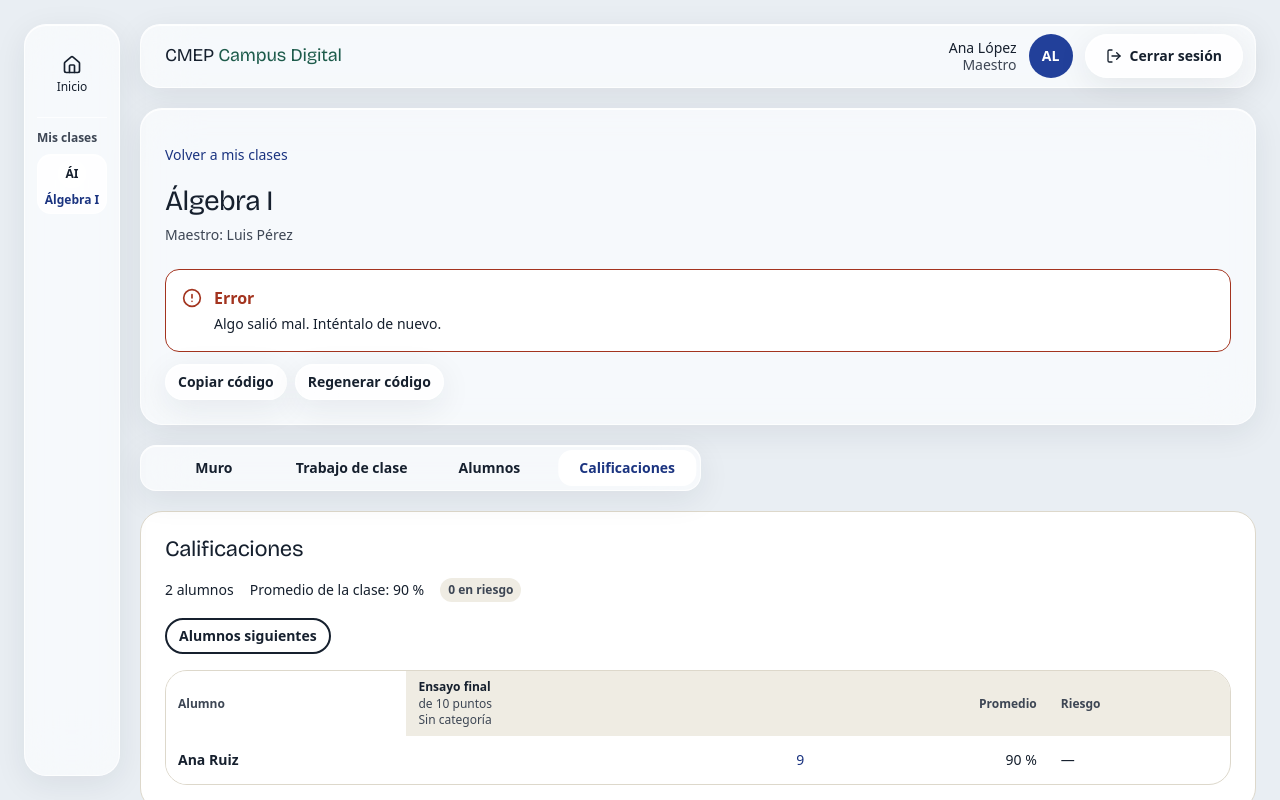
Test: Vecinos del mecanismo › CAL-T-257: el clic que no enfoca el enlace (el foco sigue en «Alumnos anteriores», que desaparece al volver a la primera ventana) deja el foco en la vista, nunc
Click the button "Alumnos siguientes" at (248, 636), box 165,618 -> 331,654
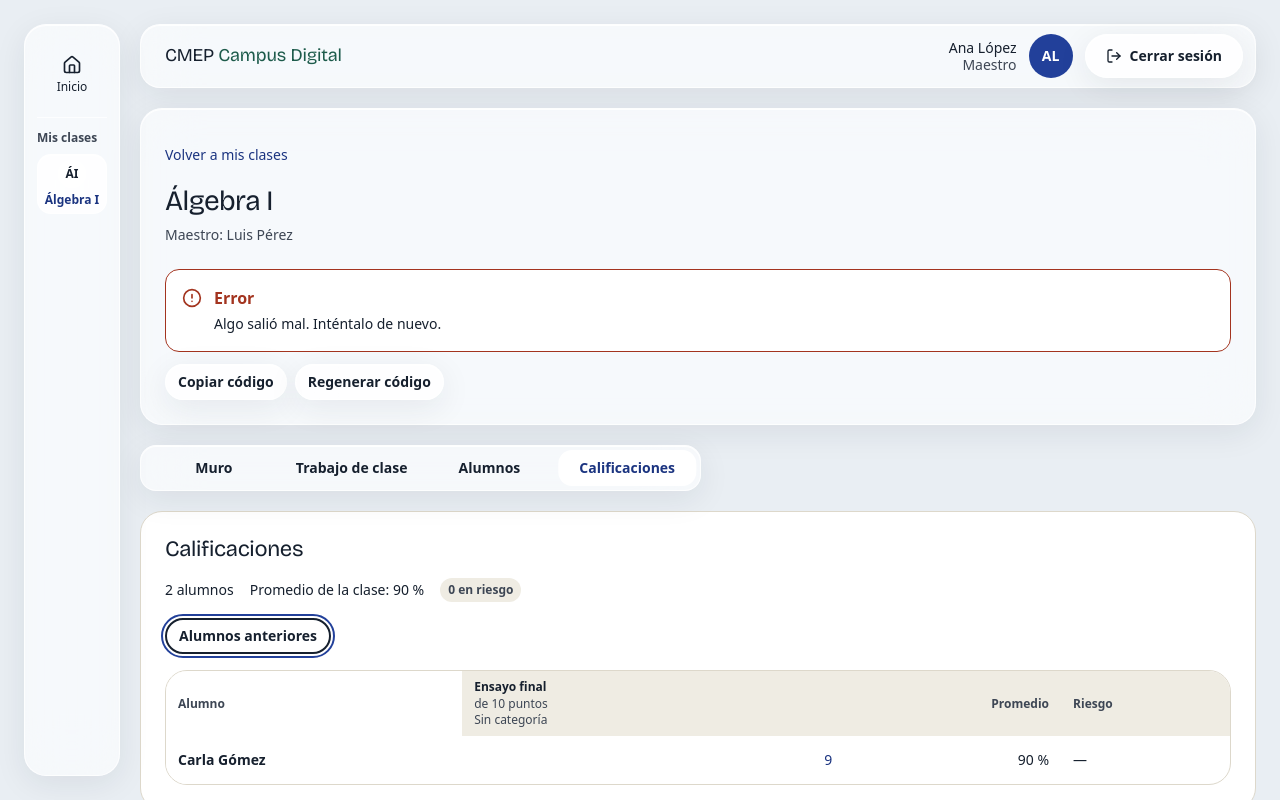
Now the row "Carla Gómez 9 90 % —" is shown, box 166,736 -> 1230,784
Click the link "Calificaciones" at (627, 467), box 579,458 -> 675,477
(page scrolled)
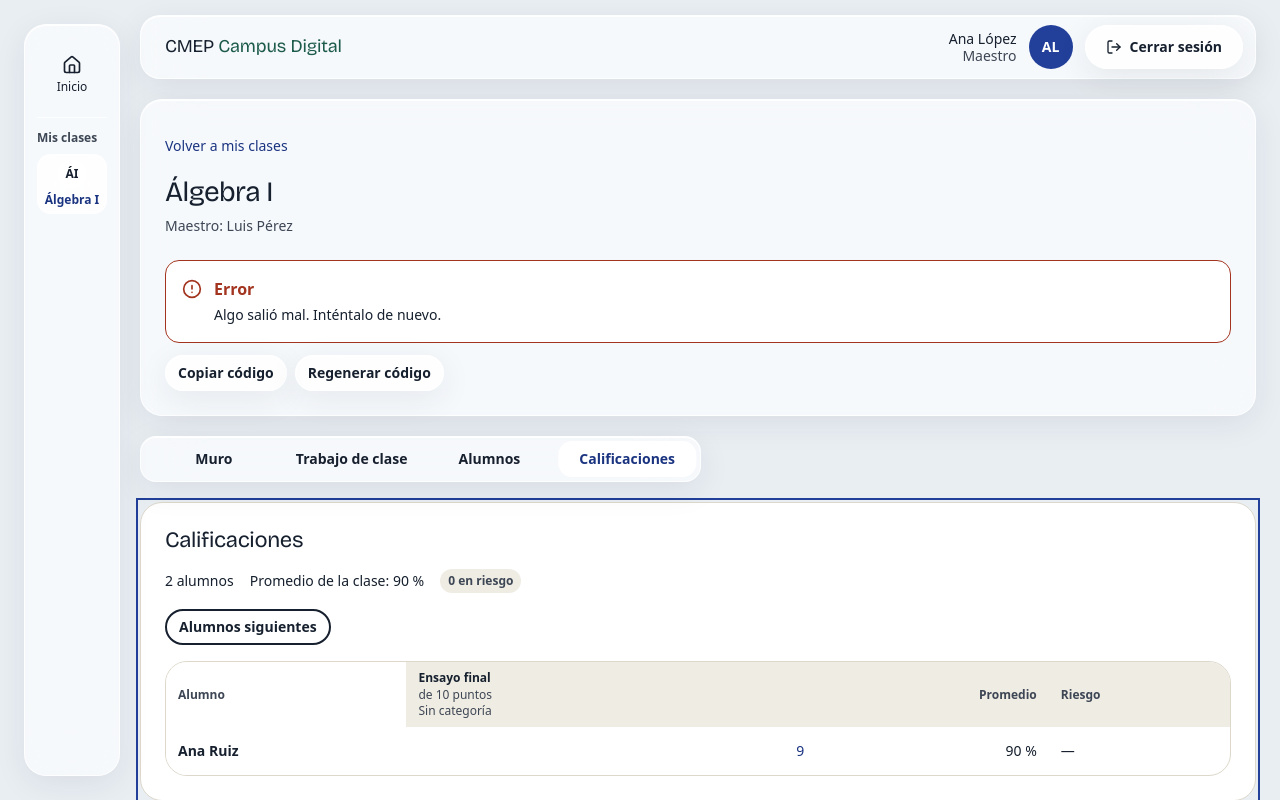
Now the row "Ana Ruiz 9 90 % —" is shown, box 166,727 -> 1230,775
Now the button "Alumnos anteriores" is gone
